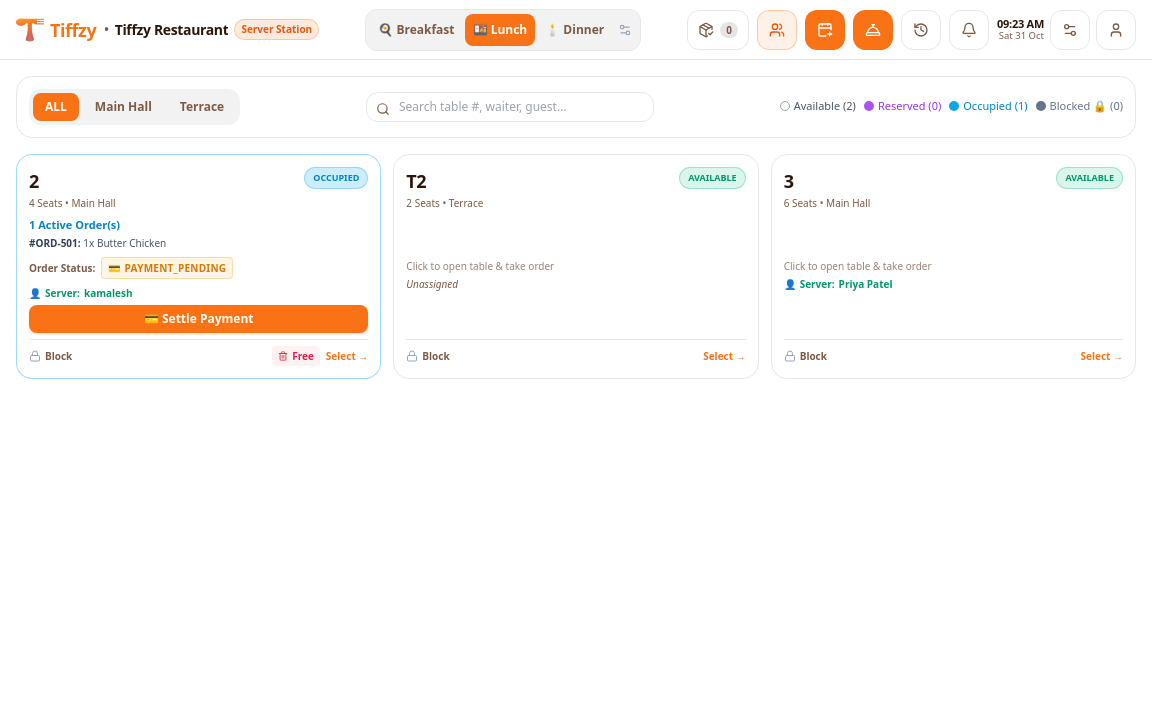
Test: Tiffzy — Cross-Role Table State Synchronization Audit (Scenarios A–N) › B & C: Cash/UPI settlement frees Table 2 and removes payment pending immediately
Expected: the text "Occupied (1)" is shown, [949,98,1028,114]
# Trigger payment settlement
What coordinates should you click on to do the following:
click the button with test id "settle-payment-btn-6"
I would click on:
 (199, 319)
Its box is [29,305,368,333].
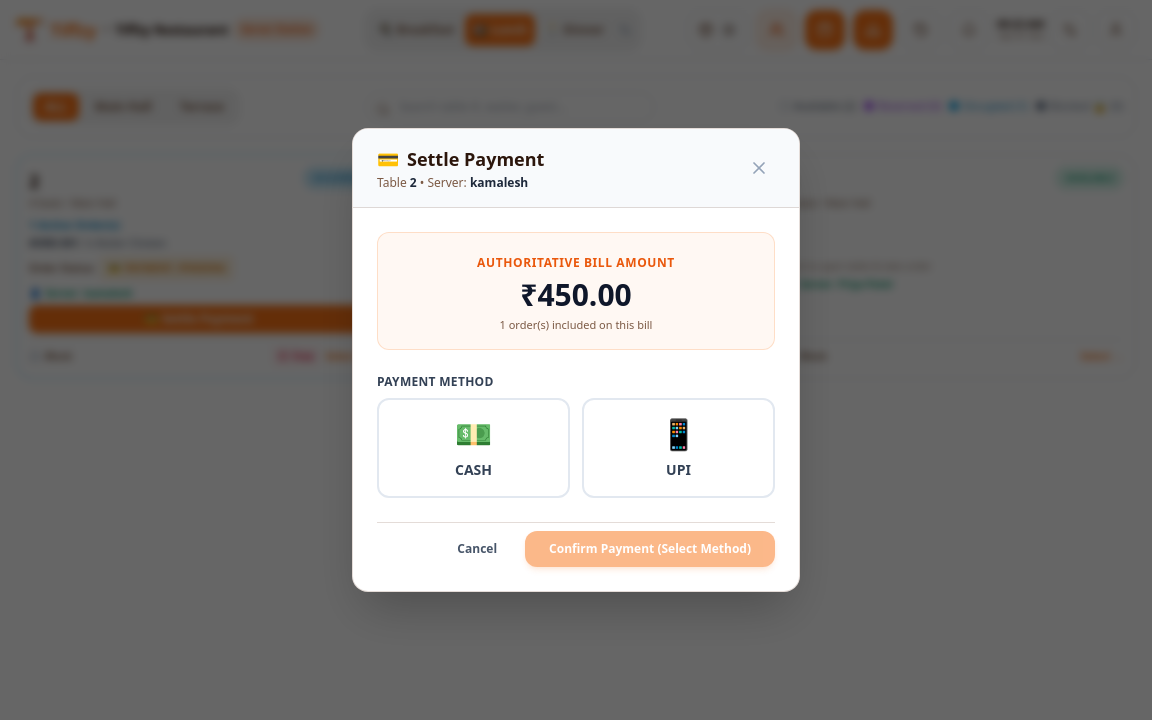
Now the dialog with test id "settle-payment-modal" is shown
# Settle as CASH
What coordinates should you click on to do the following:
click the button "💵 CASH"
I would click on:
 (474, 448)
Its box is [377,398,570,498].
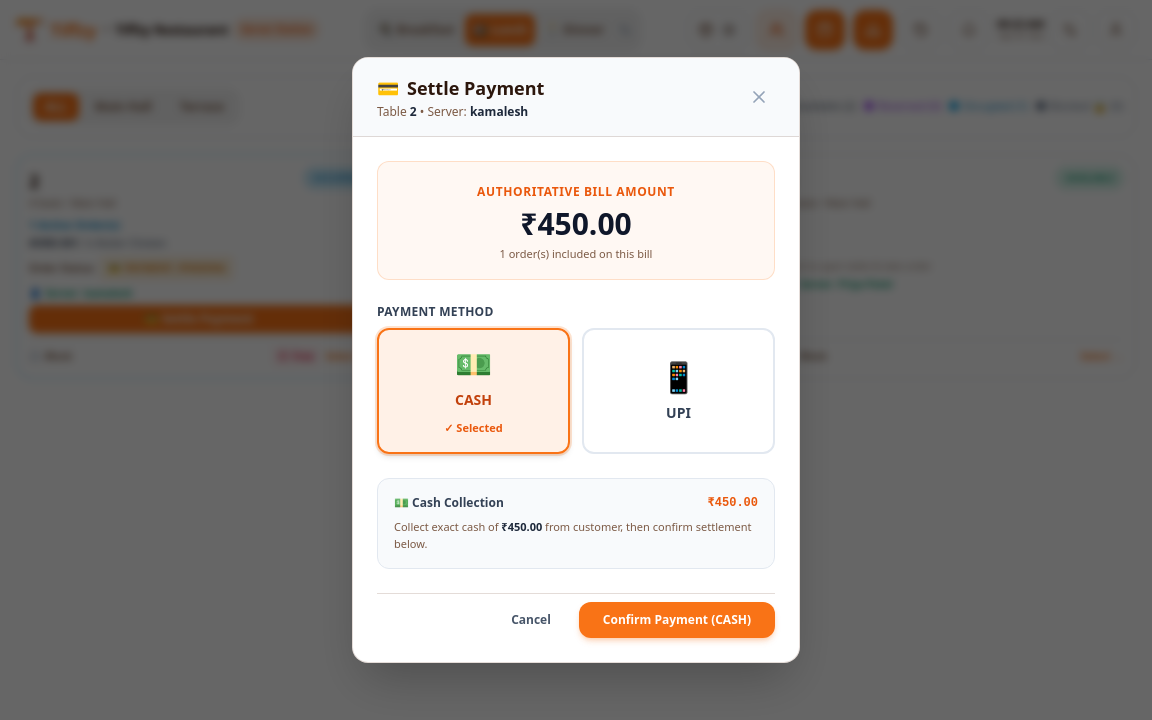
# Click Confirm Payment
What coordinates should you click on to do the following:
click the button with test id "confirm-payment-btn"
I would click on:
 (677, 620)
Its box is [579,602,775,638].
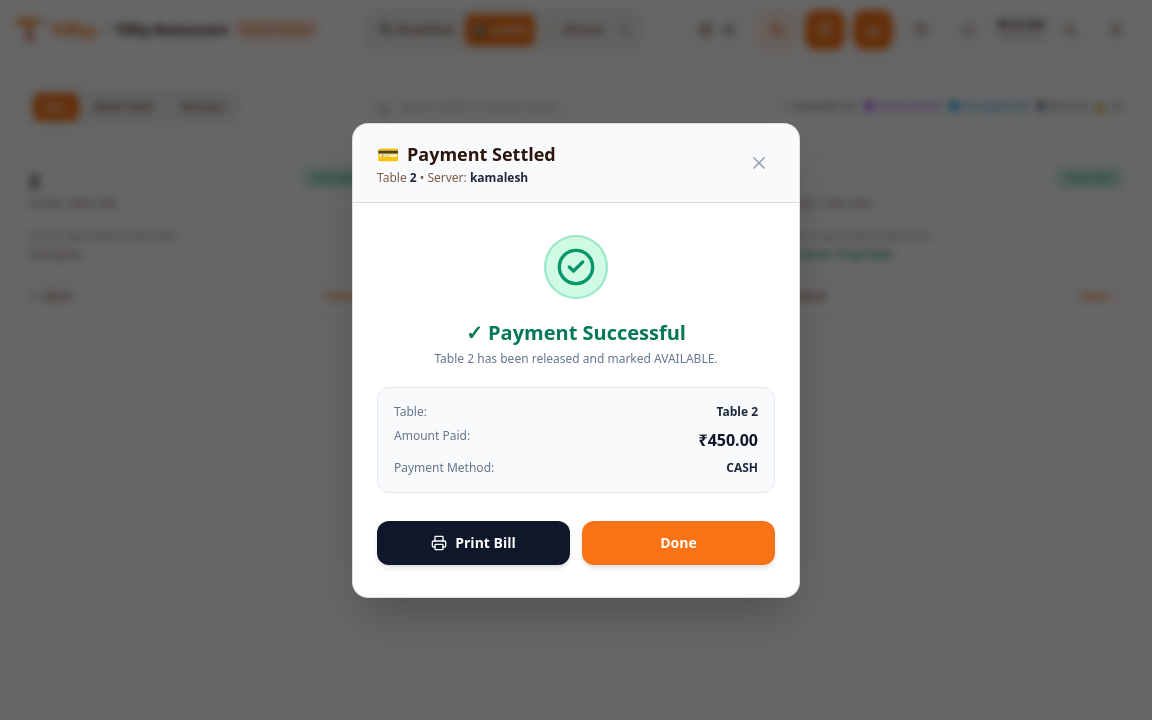
Expected: the text "Occupied (0)" is shown, [949,98,1028,114]
Now the button "💳 Settle Payment" is gone
